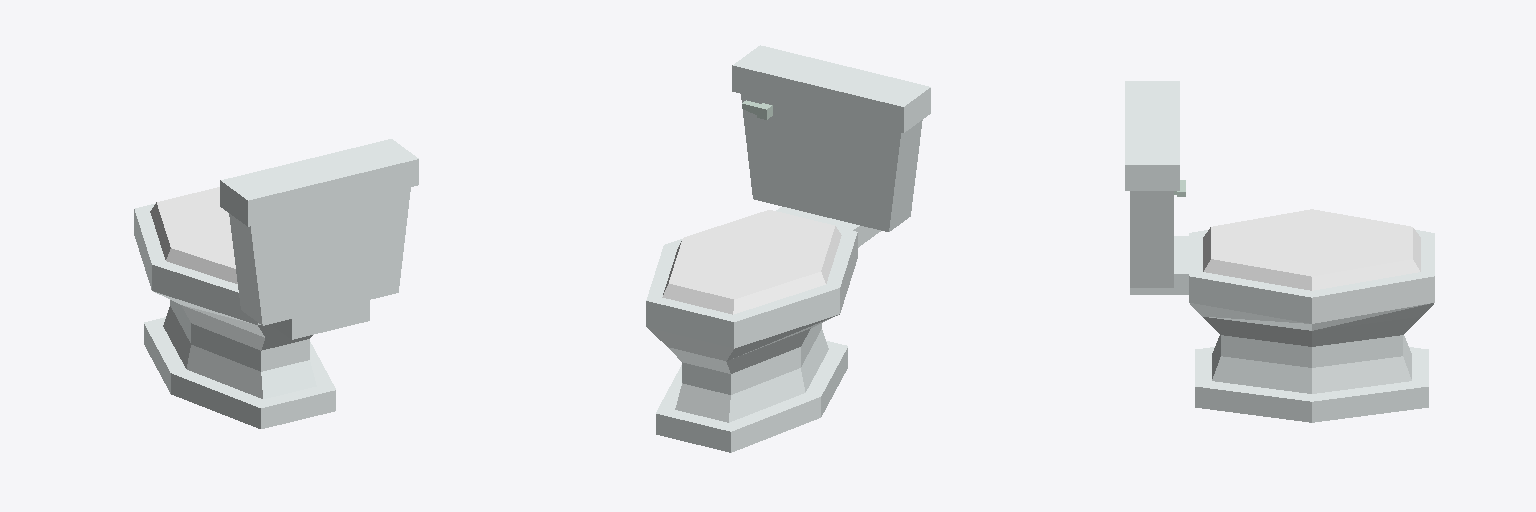
Rendered from toilet.obj.
3 views of the same model, side by side, from view 1: azimuth 30°, elevation 25°; view 2: azimuth 150°, elevation 25°; view 3: azimuth 270°, elevation 25° (orthographic).
Parts seen in each view (by area): view 1: toilet, cover 2; view 2: toilet, cover 2; view 3: toilet, cover 2.
Boxes of the visible parts, x1=… form: toilet: x1=134, y1=139, x2=418, y2=428; cover 2: x1=150, y1=187, x2=237, y2=283; toilet: x1=646, y1=45, x2=930, y2=452; cover 2: x1=662, y1=210, x2=841, y2=314; toilet: x1=1125, y1=81, x2=1434, y2=422; cover 2: x1=1203, y1=209, x2=1420, y2=290.
Size of the model in its own units: 3.13 by 4.51 by 4.77.